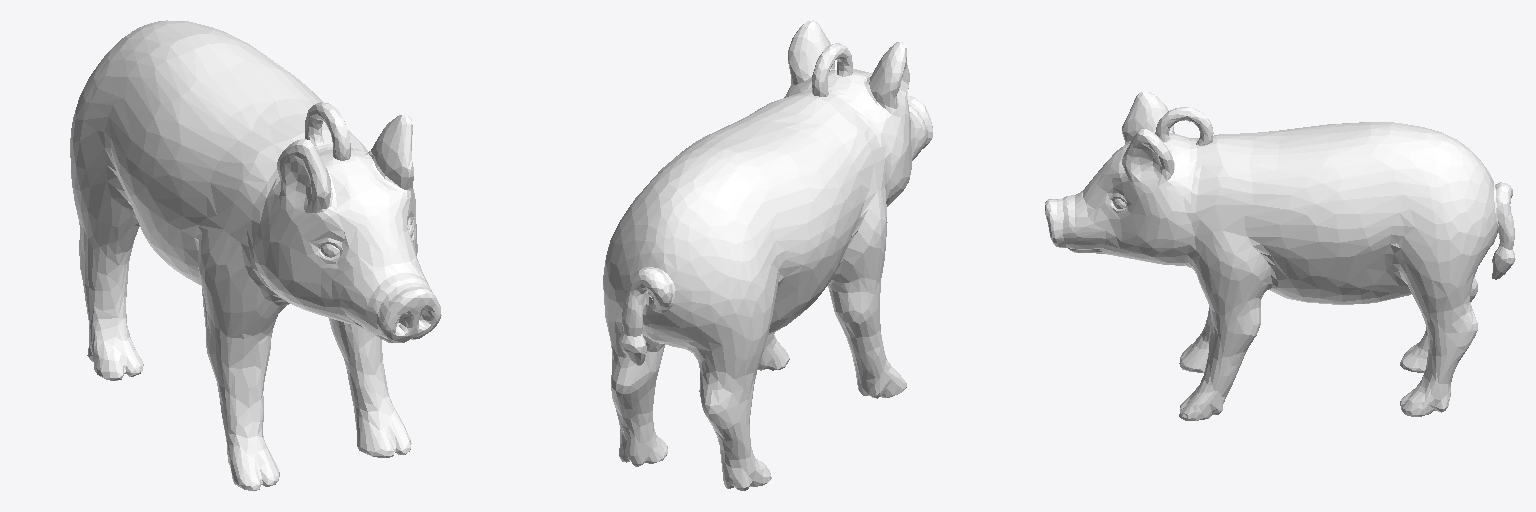
The robot description file, URDF, robot "simple_pig3.obj":
<robot name="simple_pig3.obj">
	<link name="_name">
		<visual>
			<origin xyz="0 0 0" rpy="0 0 0" />
			<geometry>
				<mesh filename="simple_pig3.obj" scale="1.0 1.0 1.0" />
			</geometry>
			<material name="texture">
				<color rgba="1.0 1.0 1.0 1.0" />
			</material>
		</visual>
		<collision>
			<geometry>
				<mesh filename="simple_pig3_vhacd.obj" scale="1.0 1.0 1.0" />
			</geometry>
		</collision>
		<inertial>
			<mass value="1.0" />
			<inertia ixx="1.0" ixy="0.0" ixz="0.0" iyy="1.0" iyz="0.0" izz="1.0" />
		</inertial>
	</link>
</robot>

--- Facts derived from the render (not from the file) ---
The picture shows the robot from 3 angles, left to right: view 1: azimuth 30°, elevation 25°; view 2: azimuth 150°, elevation 25°; view 3: azimuth 270°, elevation 25°; orthographic projection.
Model simple_pig3.obj with 1 links and 0 joints (none), rooted at _name, posed every joint at zero.
Links seen in each view (by area): view 1: _name; view 2: _name; view 3: _name.
Boxes of the visible links, x1,y1,x2,y2 form: _name: [70, 20, 441, 490]; _name: [603, 20, 932, 490]; _name: [1045, 91, 1515, 420].
Size in the robot's own frame: 2.41 by 6.95 by 4.61 metres.
Meshes: 1 distinct files referenced, 1 mesh visuals loaded (1 OBJ).